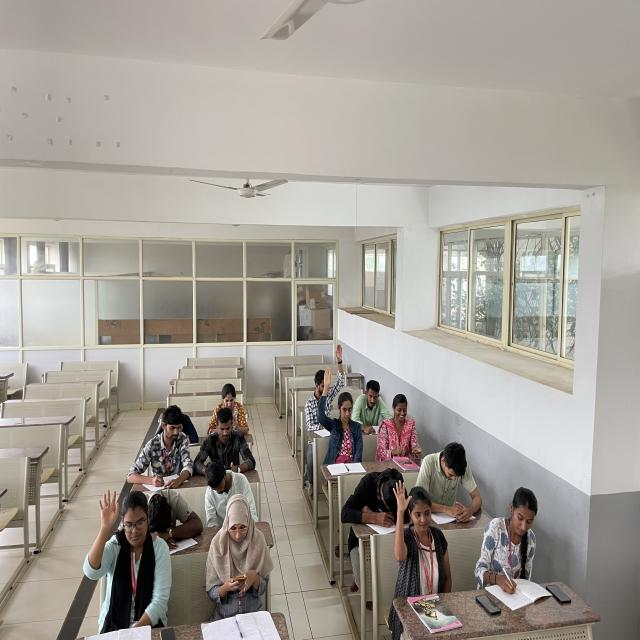Hand Rising: (78, 485, 178, 632), (388, 479, 453, 591), (316, 365, 364, 458), (302, 344, 346, 412)
Reading: (422, 441, 486, 526)
Sleeping: (335, 468, 411, 534), (136, 482, 206, 552)
Using Phone: (198, 495, 278, 628), (195, 408, 258, 473), (376, 392, 426, 468), (204, 380, 256, 432)
Writing: (477, 486, 550, 605), (132, 402, 192, 488), (352, 378, 394, 437)
